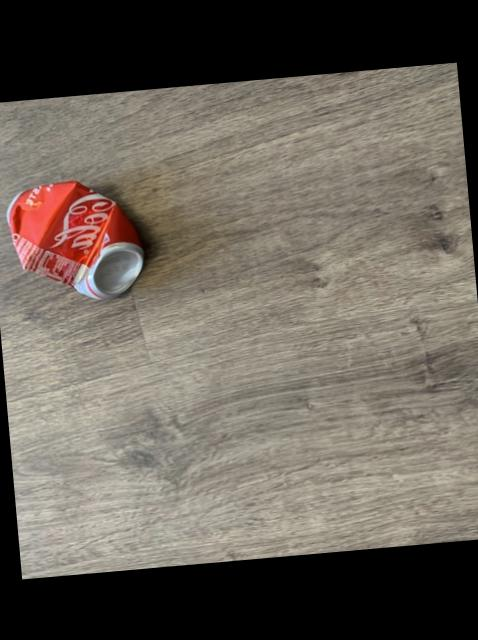metal: (8, 180, 145, 298)
